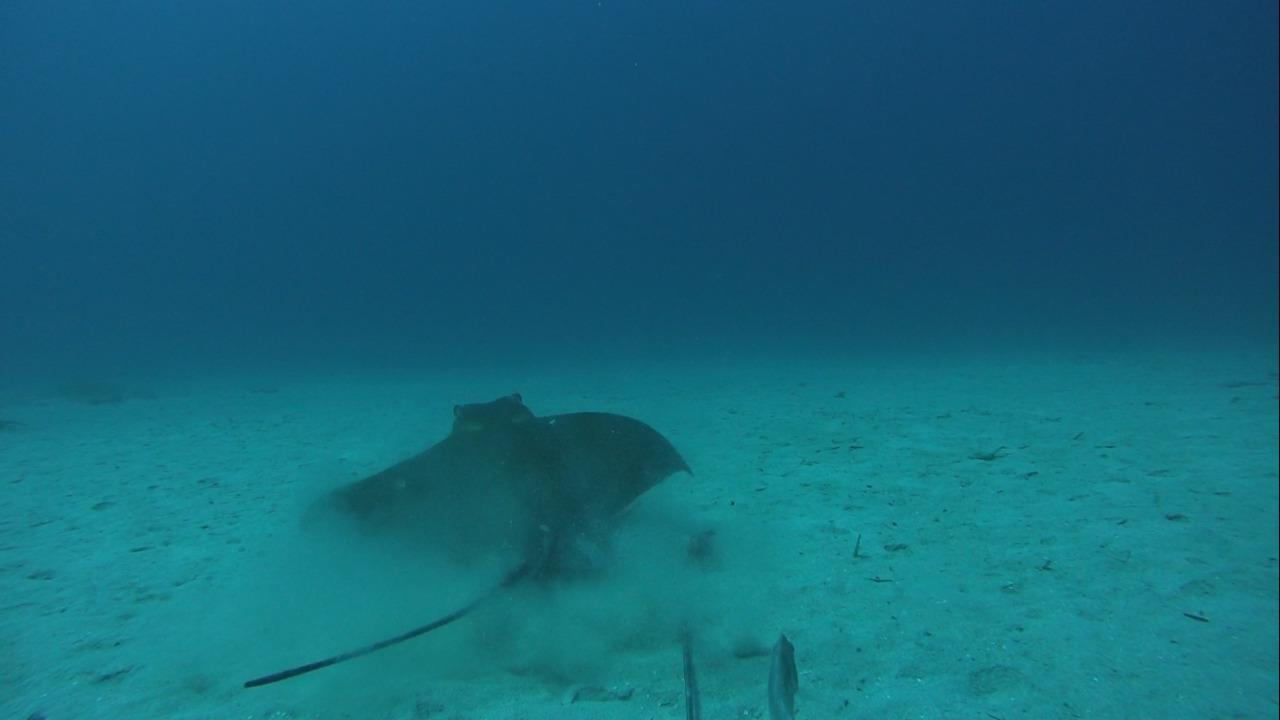myliobatis: (228, 380, 697, 699)
raor: (752, 626, 811, 719)
